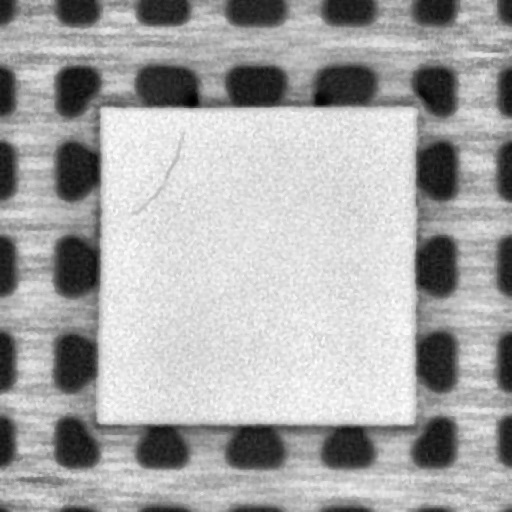DIE_CRACK: (130, 128, 184, 215)
